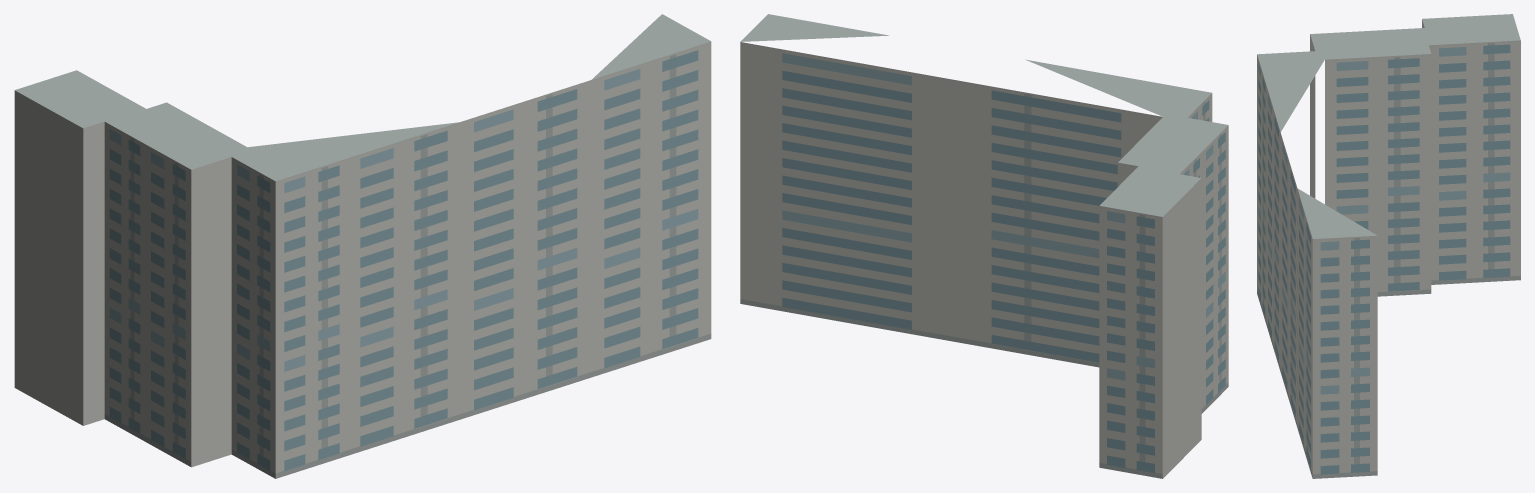
File: residential-f47e8de6-a2a5-421d-8fc2-209a524491ff.glb
3 renders of one model, left to right at view 1: azimuth 30°, elevation 25°; view 2: azimuth 150°, elevation 25°; view 3: azimuth 270°, elevation 25°, orthographic. The views are drawn at different scales.
Parts seen in each view (by area): view 1: residential-f47e8de6-a2a5-421d-8fc2-209a524491ff.tmp; view 2: residential-f47e8de6-a2a5-421d-8fc2-209a524491ff.tmp; view 3: residential-f47e8de6-a2a5-421d-8fc2-209a524491ff.tmp.
Part boxes in pixels (left/top/right/bottom): residential-f47e8de6-a2a5-421d-8fc2-209a524491ff.tmp: left=14, top=14, right=711, bottom=478; residential-f47e8de6-a2a5-421d-8fc2-209a524491ff.tmp: left=740, top=14, right=1228, bottom=478; residential-f47e8de6-a2a5-421d-8fc2-209a524491ff.tmp: left=1257, top=14, right=1520, bottom=478.
Bounding box in the file's own units: 92.15 × 45.75 × 45.61.
